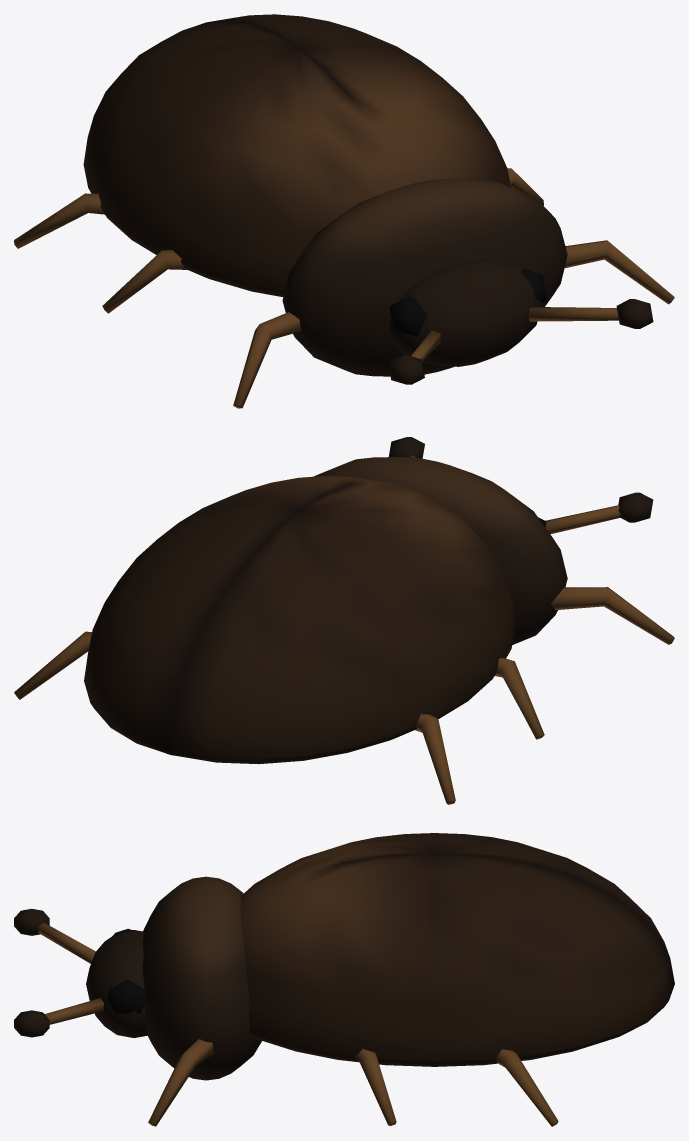
File: Triamyxa.fbx
3 renders of one model, top to bottom at view 1: azimuth 30°, elevation 25°; view 2: azimuth 150°, elevation 25°; view 3: azimuth 270°, elevation 25°, orthographic. The views are drawn at different scales.
Parts seen in each view (by area): view 1: Triamyxa; view 2: Triamyxa; view 3: Triamyxa.
Boxes of the visible parts, x1=… form: Triamyxa: x1=14, y1=14, x2=674, y2=408; Triamyxa: x1=14, y1=437, x2=674, y2=804; Triamyxa: x1=14, y1=833, x2=674, y2=1126.
Size of the model in its own units: 0.7726 by 0.38 by 1.1.
